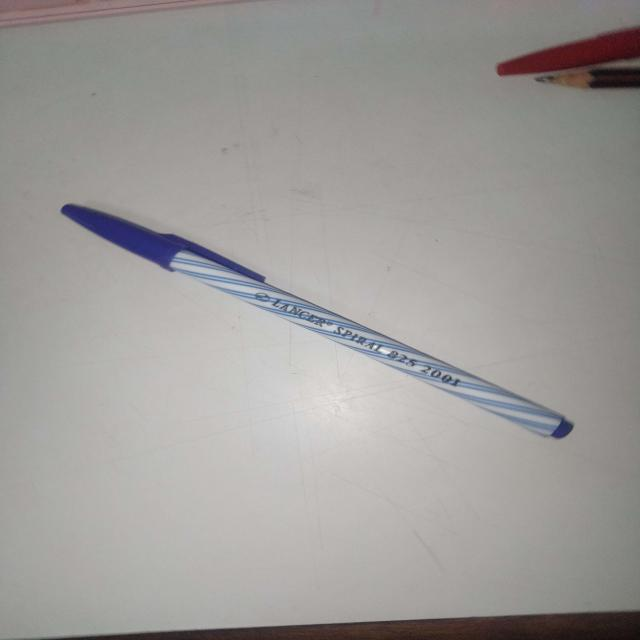pen_pencil: (57, 183, 596, 473)
